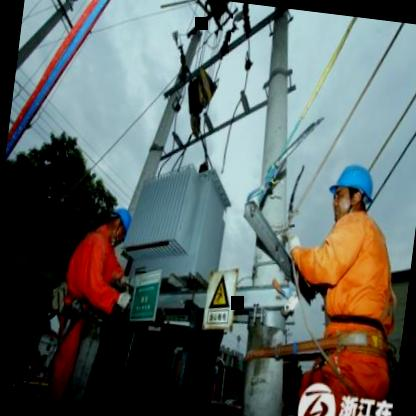helmet: (322, 156, 379, 230), (104, 201, 135, 248)
